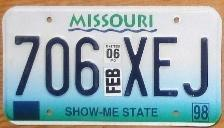0: (44, 35, 70, 97)
6: (73, 34, 101, 97)
7: (10, 34, 42, 98)
E: (153, 35, 180, 99)
J: (181, 36, 211, 98)
X: (121, 35, 151, 98)
